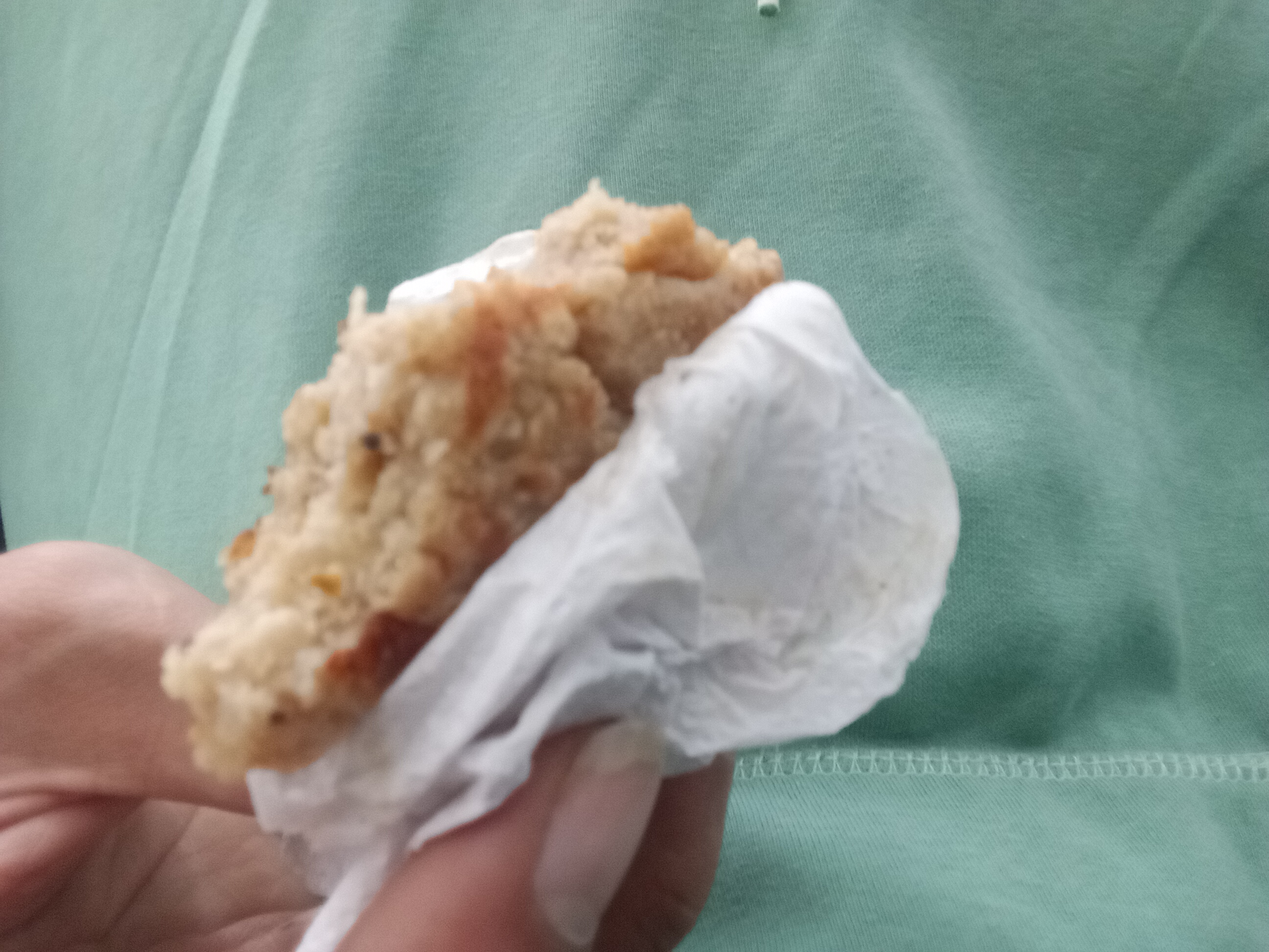Organico: (162, 186, 791, 779)
